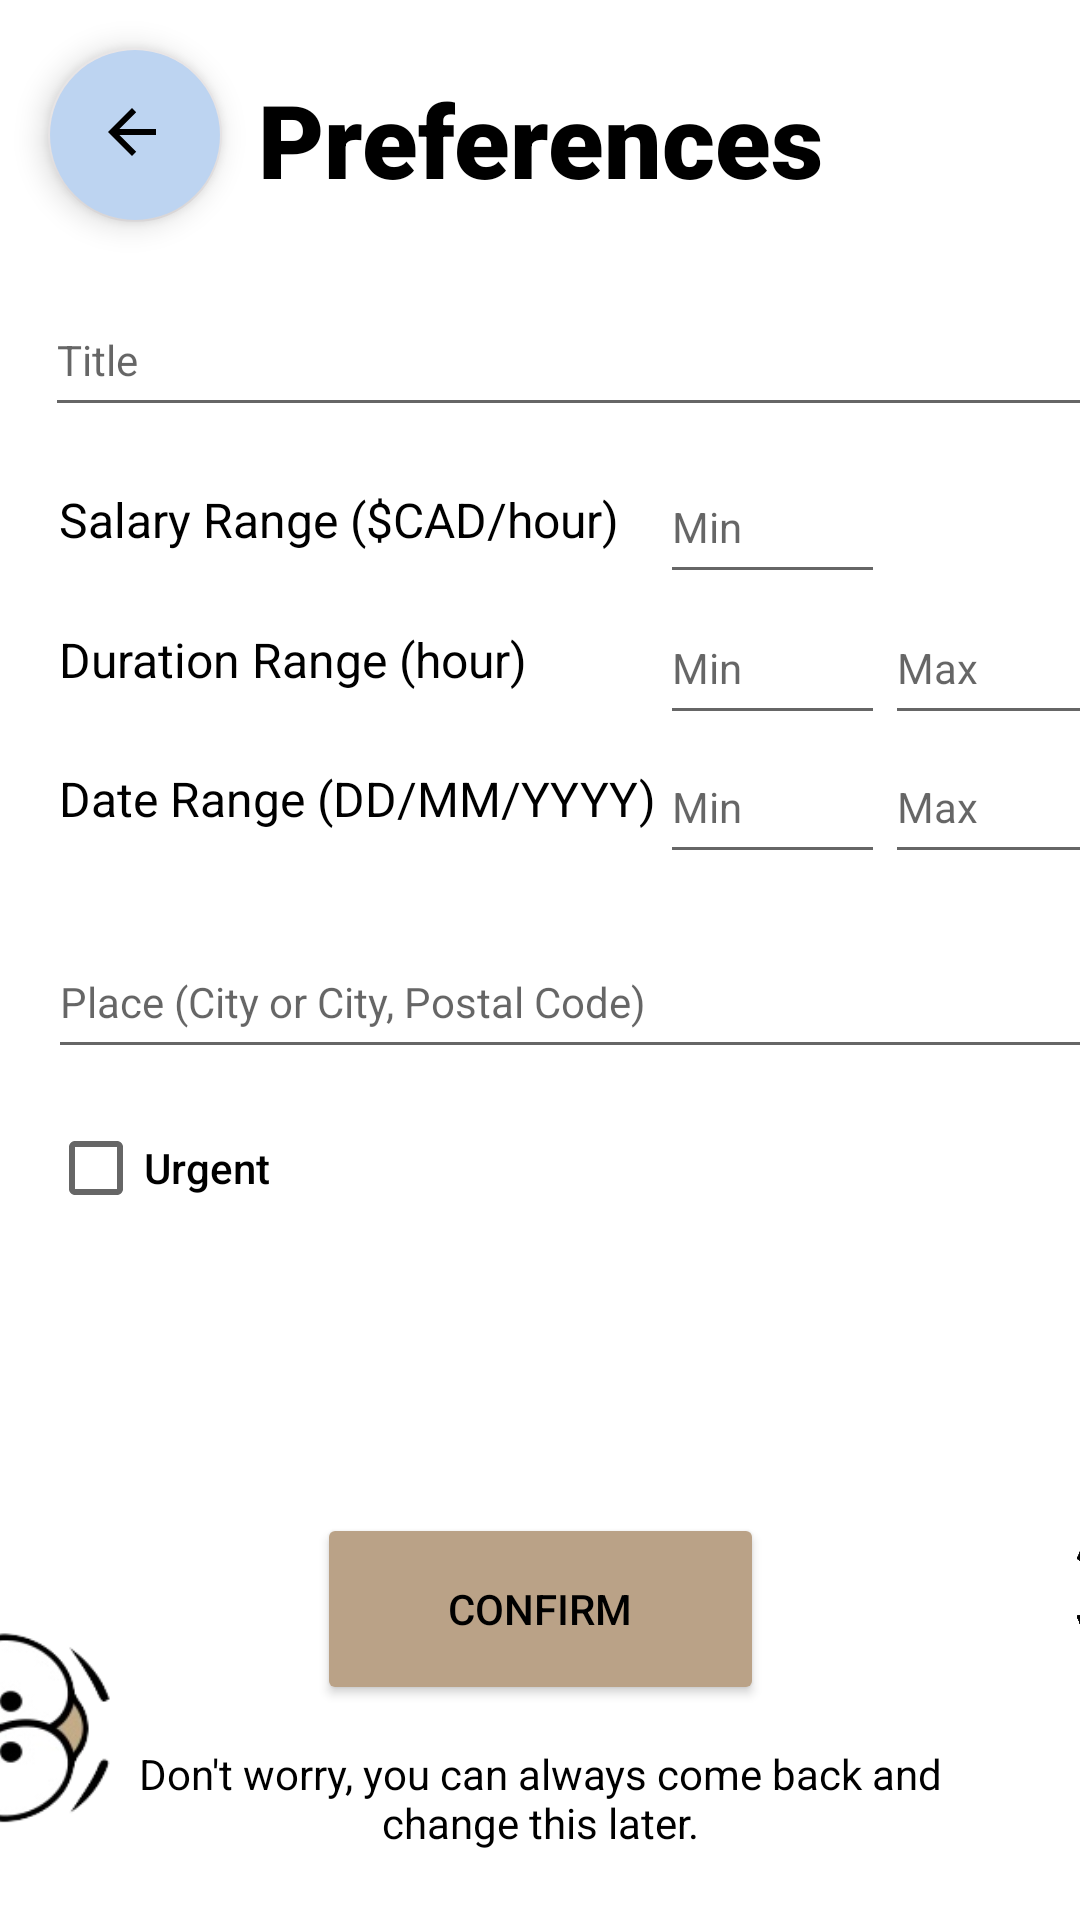

Where icons sit on this 1080x1920 app screen, as bbox=[x1, y1, x2, y2]:
Back Button: bbox=[48, 50, 222, 222]
